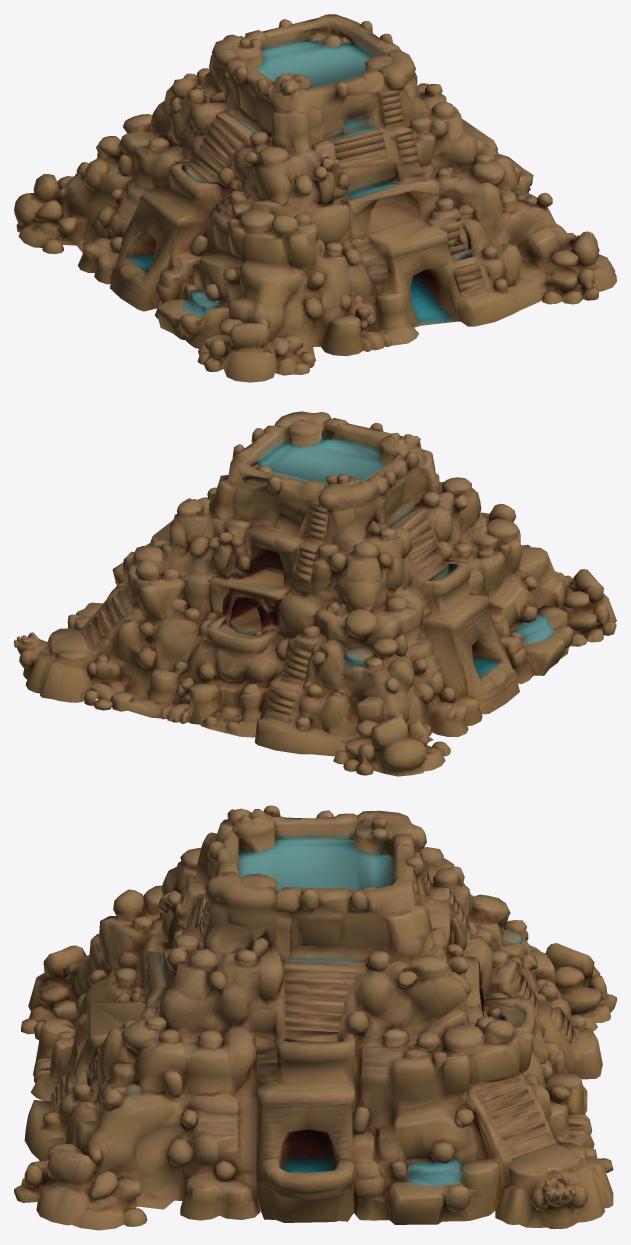
Rendered from cav_rimstone_pool_terrace_LOD0.glb.
The picture shows the model from 3 angles, top to bottom: view 1: azimuth 30°, elevation 25°; view 2: azimuth 150°, elevation 25°; view 3: azimuth 270°, elevation 25°; orthographic projection. The views are drawn at different scales.
Parts seen in each view (by area): view 1: tripo_node_12a77af8-fa9d-4081-bc1f-98421c458a2b; view 2: tripo_node_12a77af8-fa9d-4081-bc1f-98421c458a2b; view 3: tripo_node_12a77af8-fa9d-4081-bc1f-98421c458a2b.
Part boxes in pixels (x1,y1,x2,y2): tripo_node_12a77af8-fa9d-4081-bc1f-98421c458a2b: (14, 14, 616, 382); tripo_node_12a77af8-fa9d-4081-bc1f-98421c458a2b: (14, 411, 616, 776); tripo_node_12a77af8-fa9d-4081-bc1f-98421c458a2b: (14, 805, 616, 1230).
Size of the model in its own units: 0.998 by 0.4863 by 0.998.
Materials: 1 (1 with a texture image).
